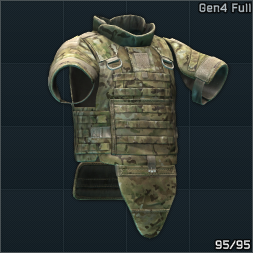IOTV Gen4 body armor full protection: (0, 0, 253, 253)
